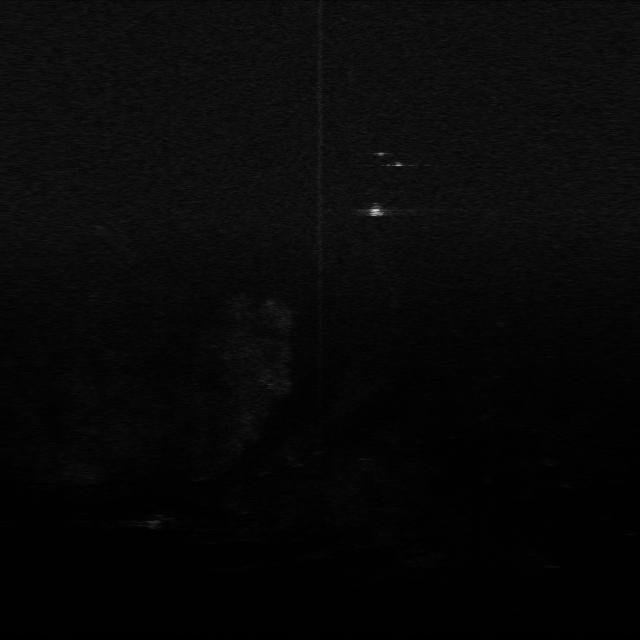rov: (362, 202, 389, 222)
